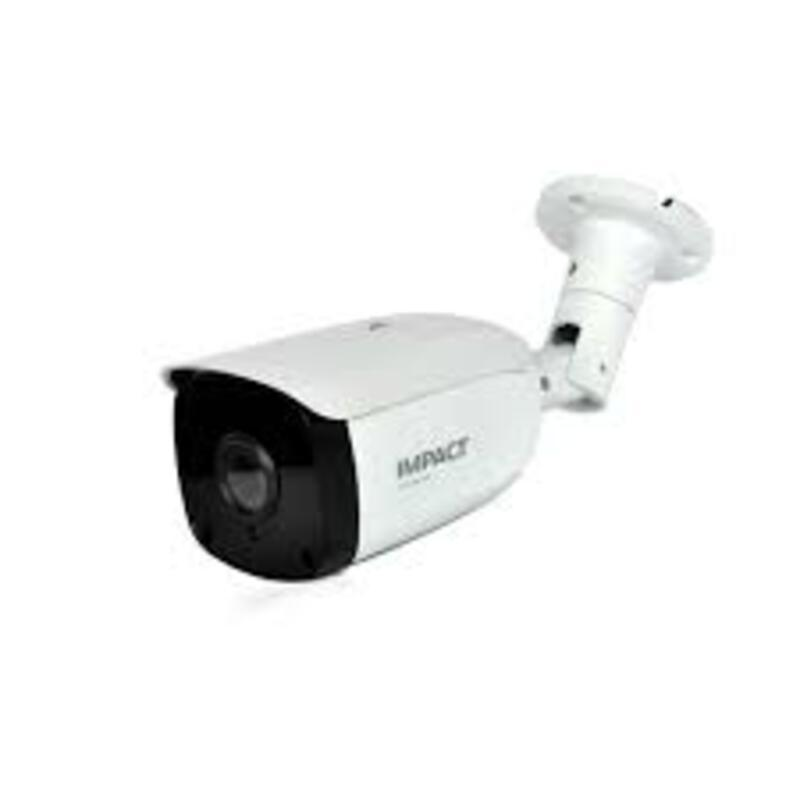bullet: (147, 312, 546, 595)
